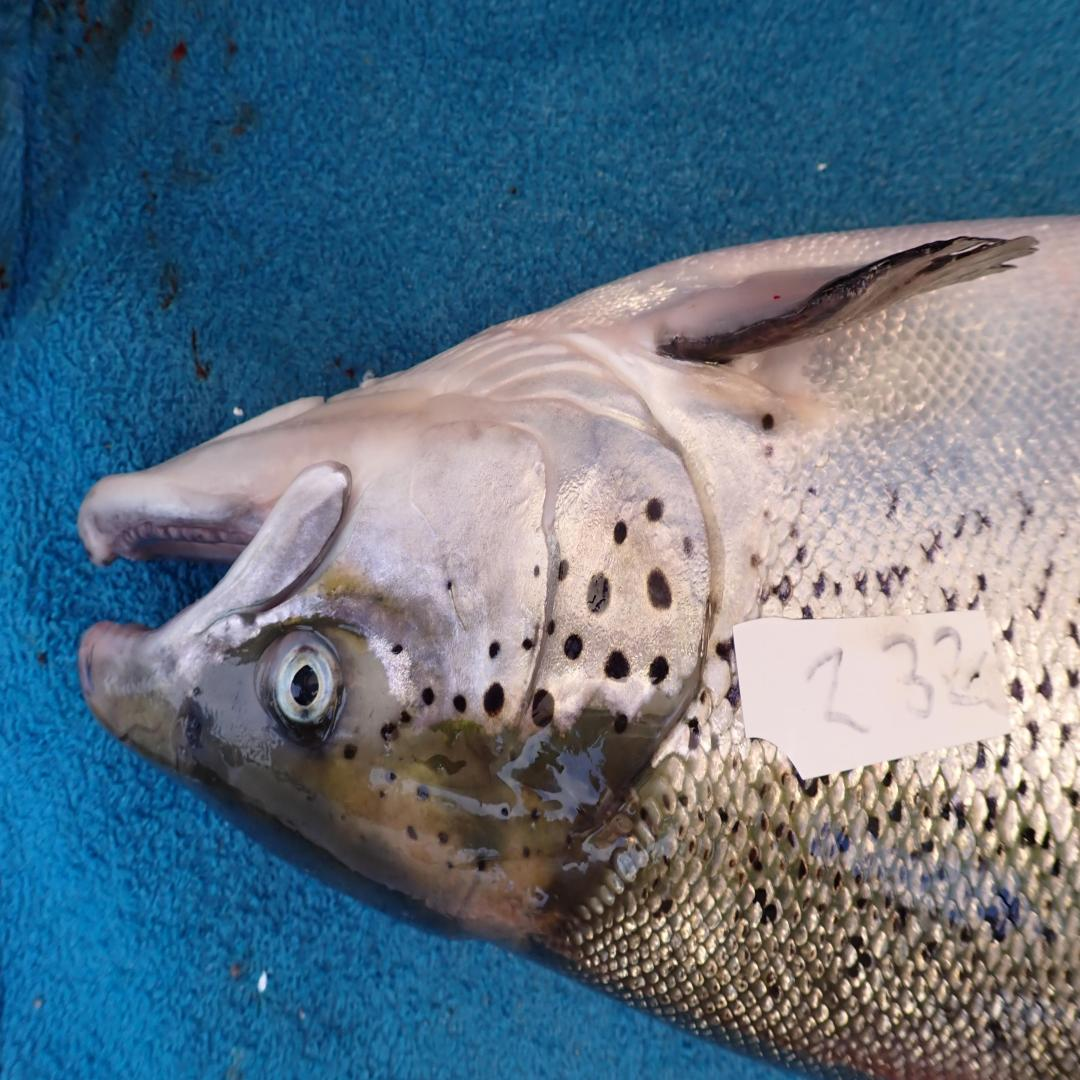spot: (648, 568, 671, 610), (586, 574, 610, 613), (532, 689, 555, 728), (605, 650, 631, 681), (483, 683, 504, 717), (650, 655, 669, 683), (563, 633, 582, 661), (645, 498, 662, 520), (614, 520, 626, 546), (614, 714, 629, 734), (422, 686, 435, 706), (557, 560, 570, 579), (682, 537, 693, 556), (454, 695, 466, 712), (489, 641, 500, 658), (399, 710, 411, 725), (546, 619, 555, 636), (523, 638, 534, 650), (392, 644, 403, 655), (446, 580, 453, 591), (534, 565, 540, 577)
